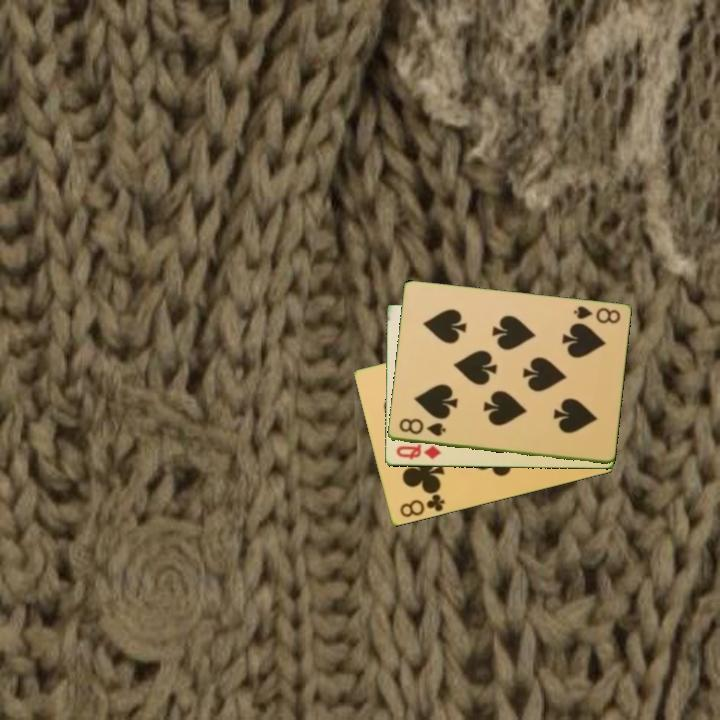8c: (396, 489, 448, 521)
8s: (395, 415, 448, 439), (570, 303, 623, 327)
Qd: (392, 441, 444, 462)
